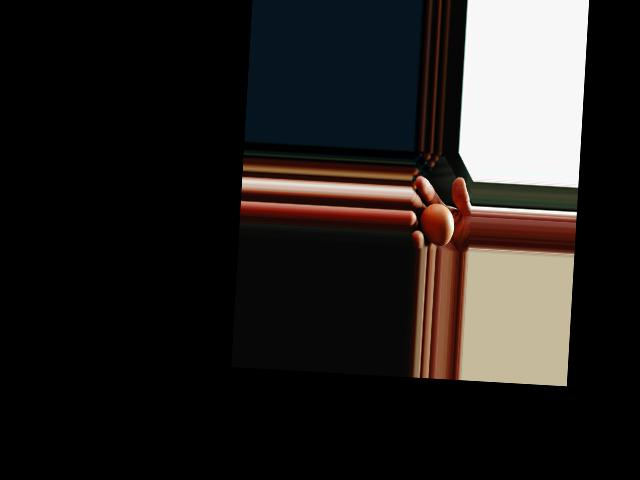egg: (417, 202, 454, 247)
